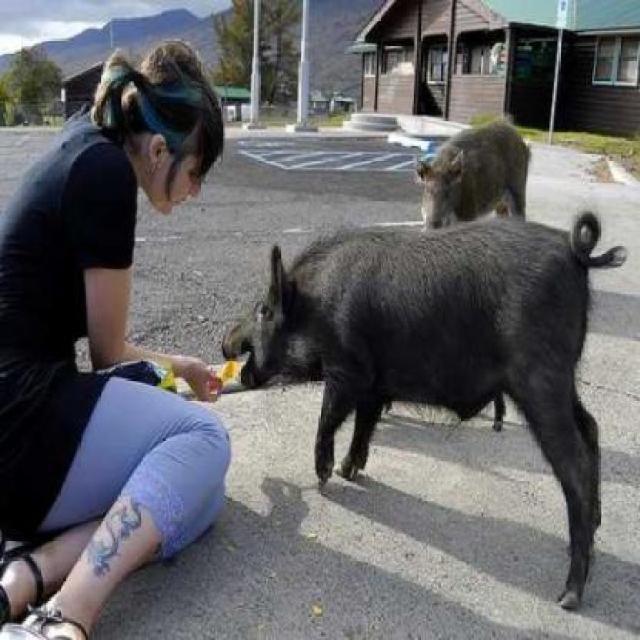Boar: (219, 212, 623, 588), (396, 107, 532, 256)
